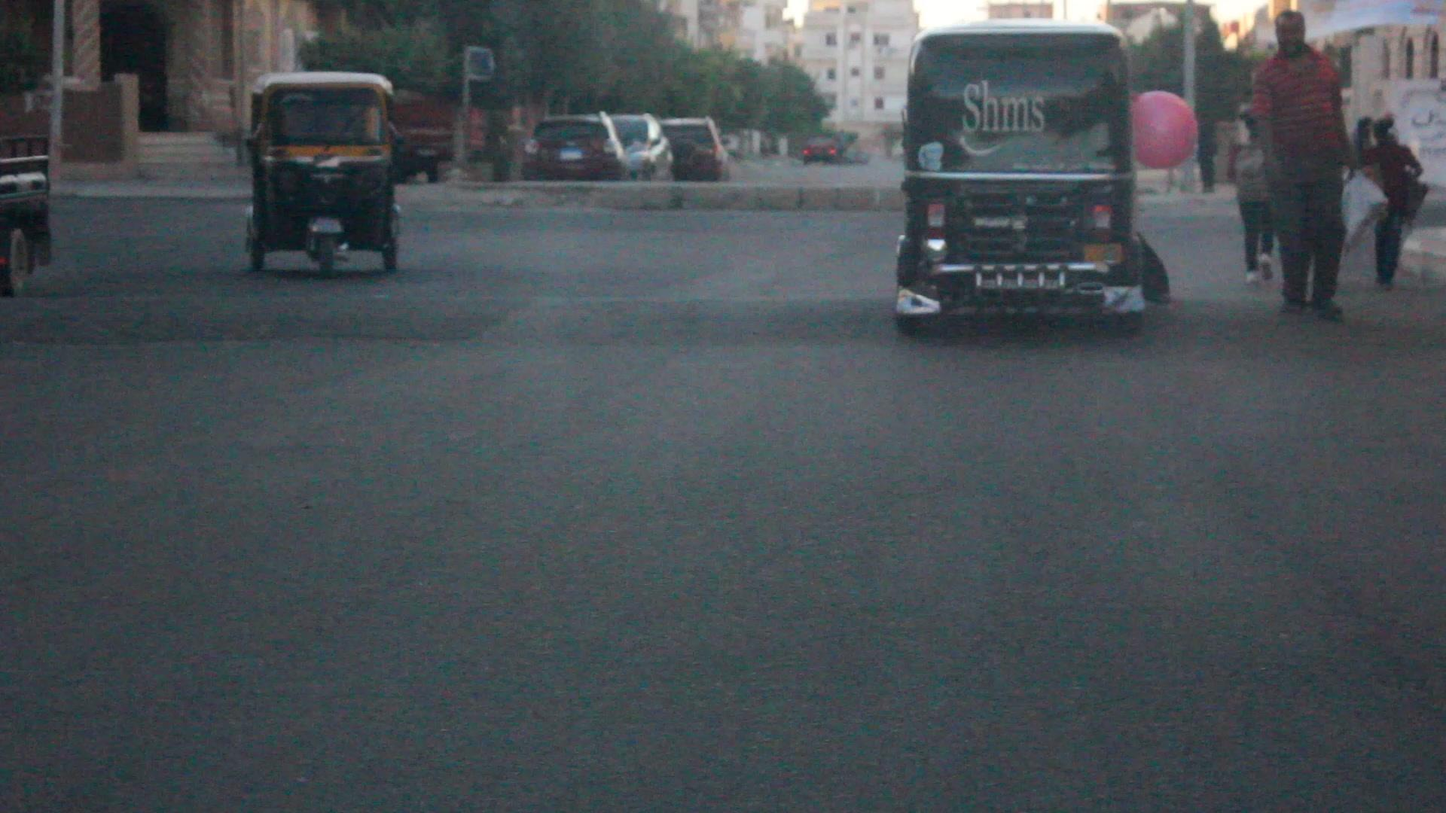Bump: (0, 261, 879, 340), (1174, 302, 1445, 359)
